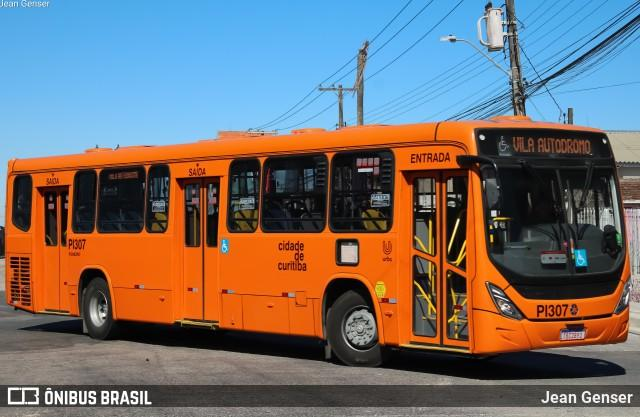VILA AUTODROMO: (505, 134, 596, 159)
